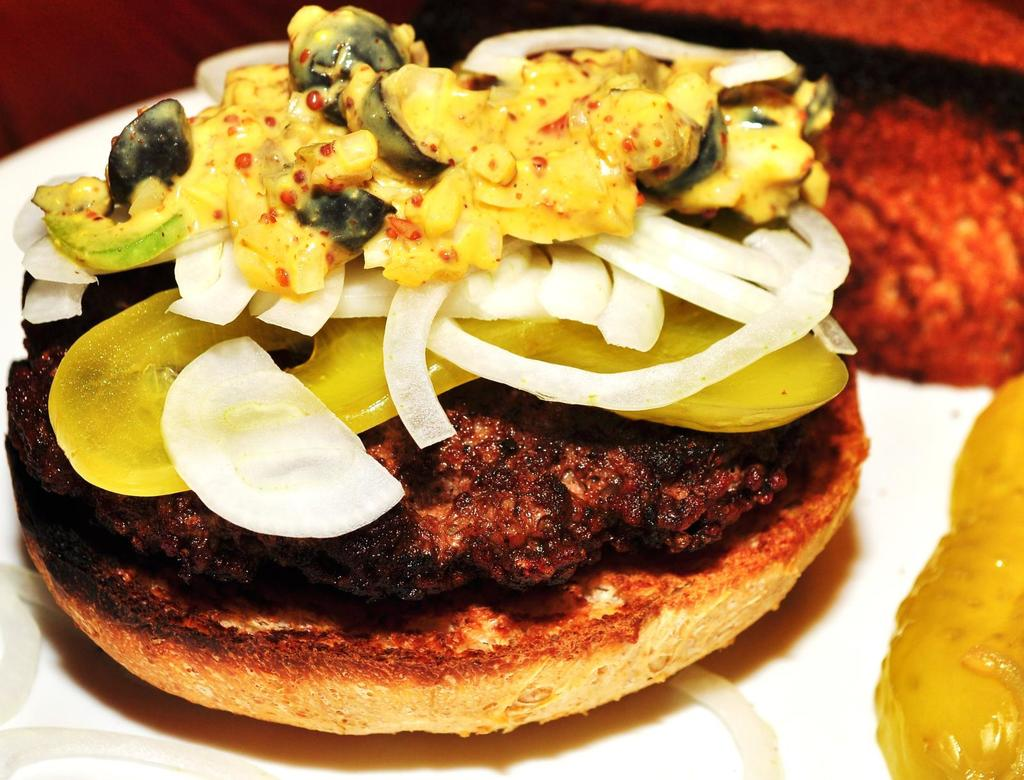Hamburger: (0, 0, 880, 730)
